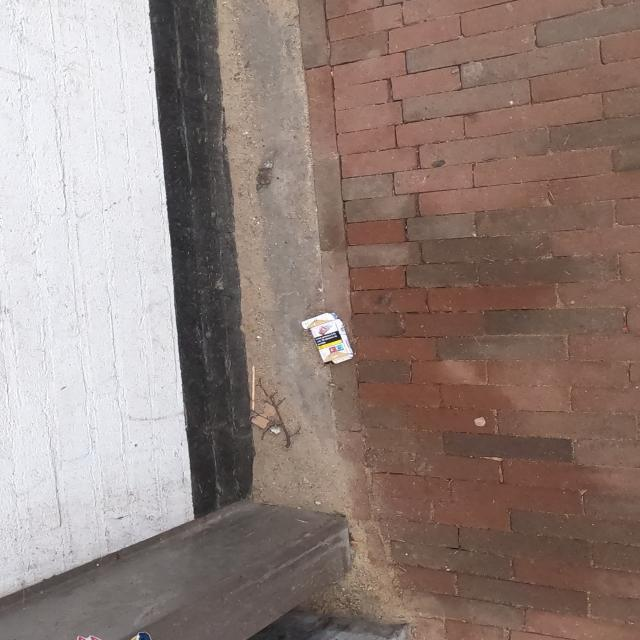Paper: (300, 312, 354, 364)
